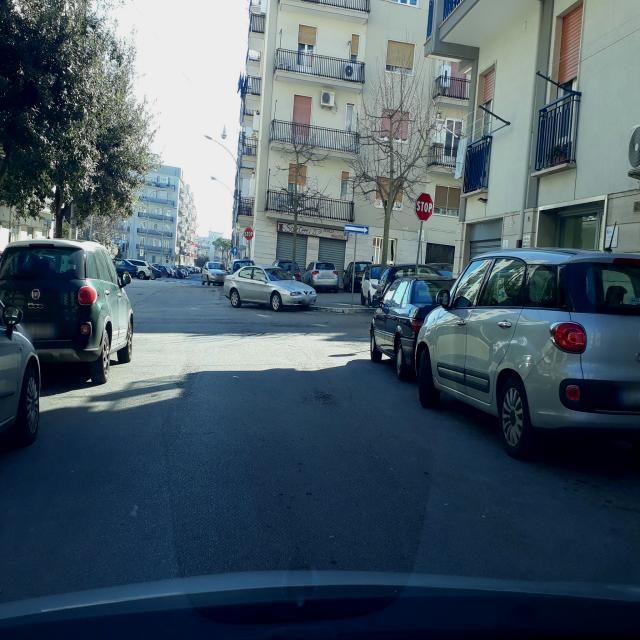car: (414, 245, 640, 461), (0, 237, 134, 386), (0, 245, 41, 544), (370, 272, 456, 381), (225, 264, 317, 312), (374, 261, 433, 307), (360, 262, 384, 306), (342, 260, 372, 292), (310, 260, 339, 293), (202, 261, 225, 286), (112, 258, 137, 280), (278, 261, 302, 282), (127, 260, 153, 279), (429, 263, 453, 277), (231, 258, 254, 272), (303, 262, 315, 287), (151, 263, 170, 278), (166, 264, 178, 278), (176, 264, 187, 278), (185, 265, 193, 275)
